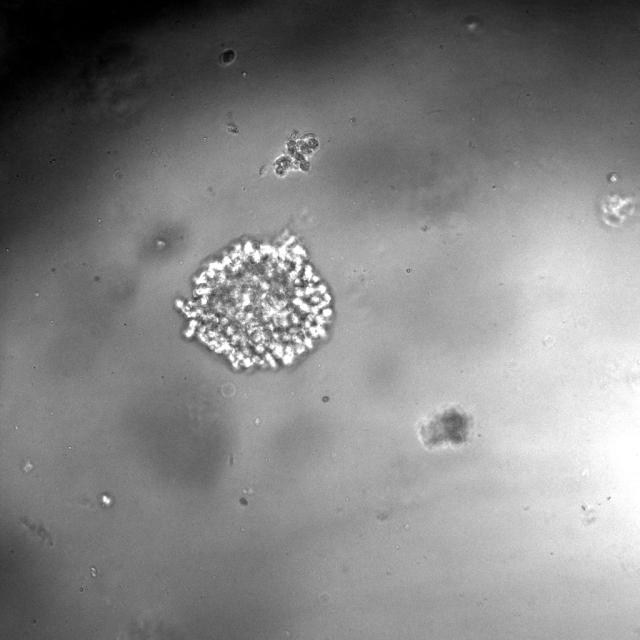organoid: (176, 233, 334, 369), (418, 406, 472, 450), (273, 131, 319, 177), (598, 193, 634, 228), (218, 48, 236, 66), (607, 172, 619, 182)
